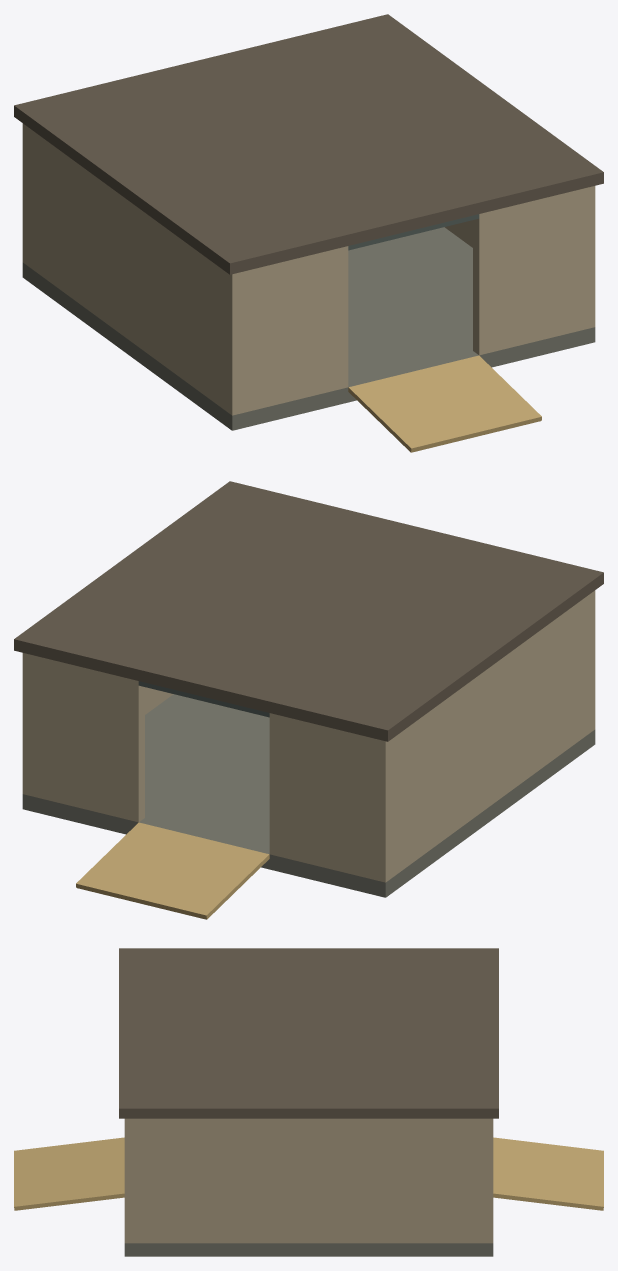
Rendered from through.glb.
The picture shows the model from 3 angles, top to bottom: view 1: azimuth 30°, elevation 25°; view 2: azimuth 150°, elevation 25°; view 3: azimuth 270°, elevation 25°; orthographic projection. The views are drawn at different scales.
Visible parts, largest first — view 1: roof, wall_left, floor, wall_front_R, wall_front_L, ramp_front, wall_right, lintel_front; view 2: roof, wall_left, floor, wall_back_R, wall_back_L, ramp_back, wall_right, lintel_back; view 3: roof, wall_right, ramp_back, ramp_front, floor, wall_front_R, wall_back_R.
Boxes of the visible parts, <box> form: roof: <box>14,14,603,274</box>; wall_left: <box>22,123,242,415</box>; floor: <box>22,227,595,430</box>; wall_front_R: <box>473,186,595,355</box>; wall_front_L: <box>226,246,348,415</box>; ramp_front: <box>348,355,541,452</box>; wall_right: <box>444,186,595,328</box>; lintel_front: <box>348,214,479,250</box>; roof: <box>14,481,603,741</box>; wall_left: <box>375,590,595,882</box>; floor: <box>22,694,595,897</box>; wall_back_R: <box>22,653,144,822</box>; wall_back_L: <box>269,713,391,881</box>; ramp_back: <box>76,822,269,919</box>; wall_right: <box>22,653,173,796</box>; lintel_back: <box>138,681,269,717</box>; roof: <box>119,948,498,1118</box>; wall_right: <box>124,1118,493,1243</box>; ramp_back: <box>493,1137,603,1210</box>; ramp_front: <box>14,1137,124,1210</box>; floor: <box>124,1243,493,1256</box>; wall_front_R: <box>125,1118,135,1242</box>; wall_back_R: <box>482,1118,493,1242</box>.
Size of the model in its own units: 10.3 by 4.62 by 16.
